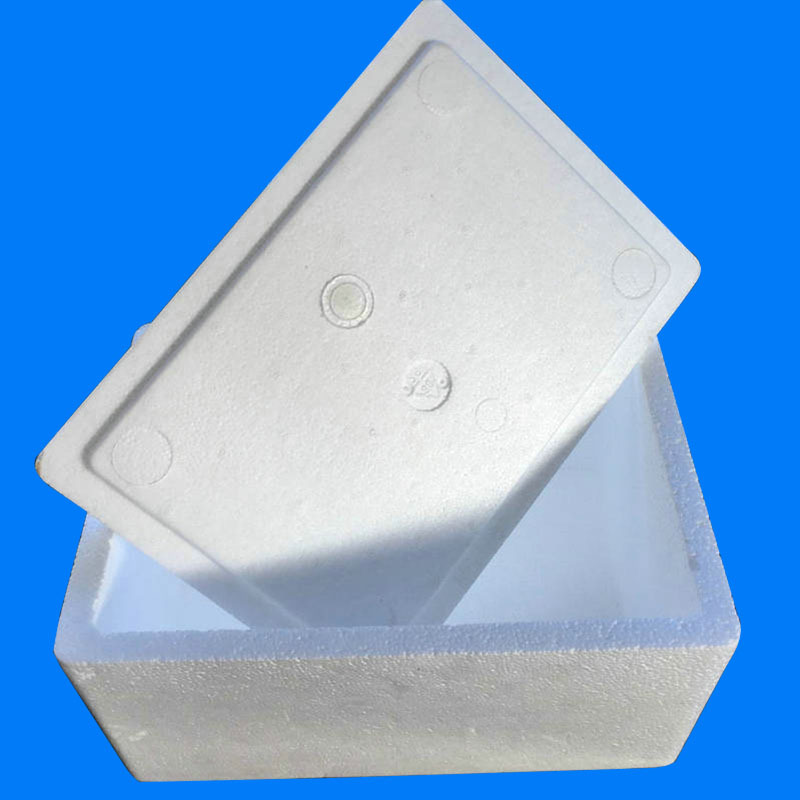Boxes: (35, 0, 739, 782)
